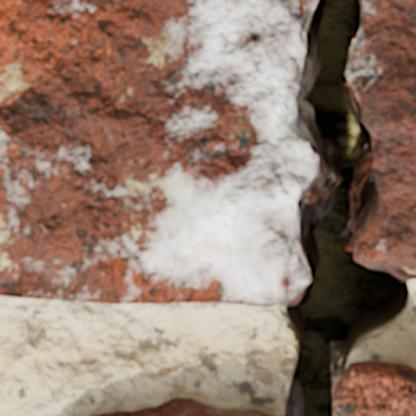broken_brick: (0, 0, 316, 307), (347, 0, 415, 281), (334, 361, 415, 415), (94, 396, 276, 415)
crack: (277, 0, 414, 415)
